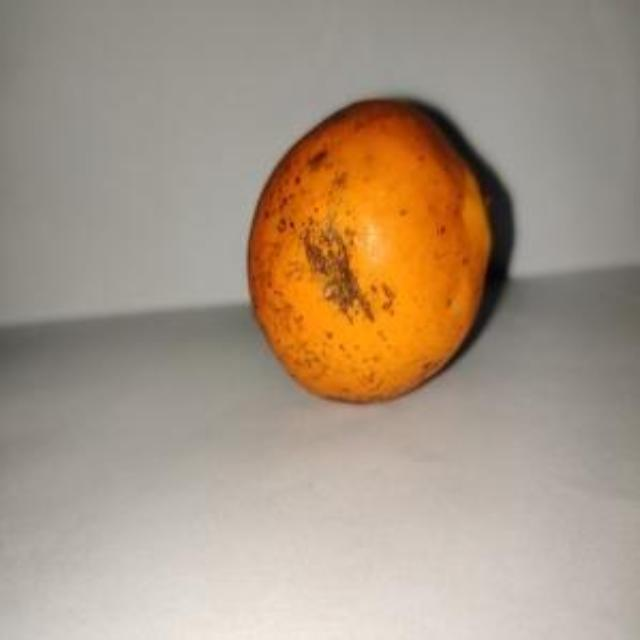good: (246, 98, 514, 407)
